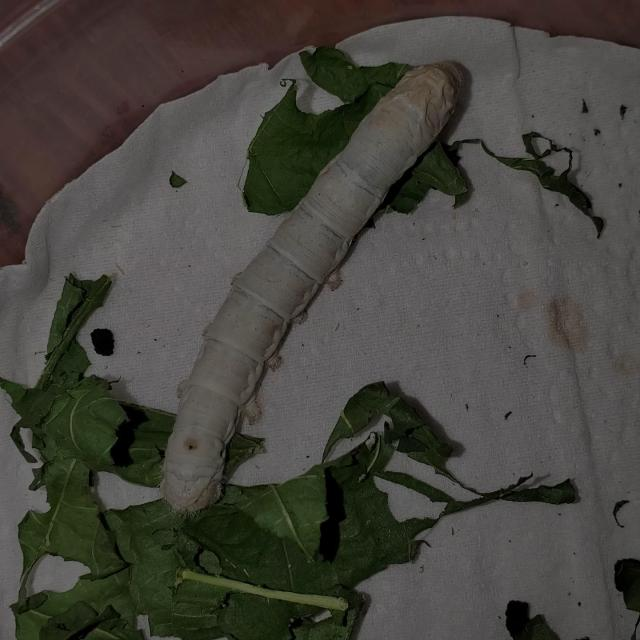Healthy: (145, 29, 475, 536)
